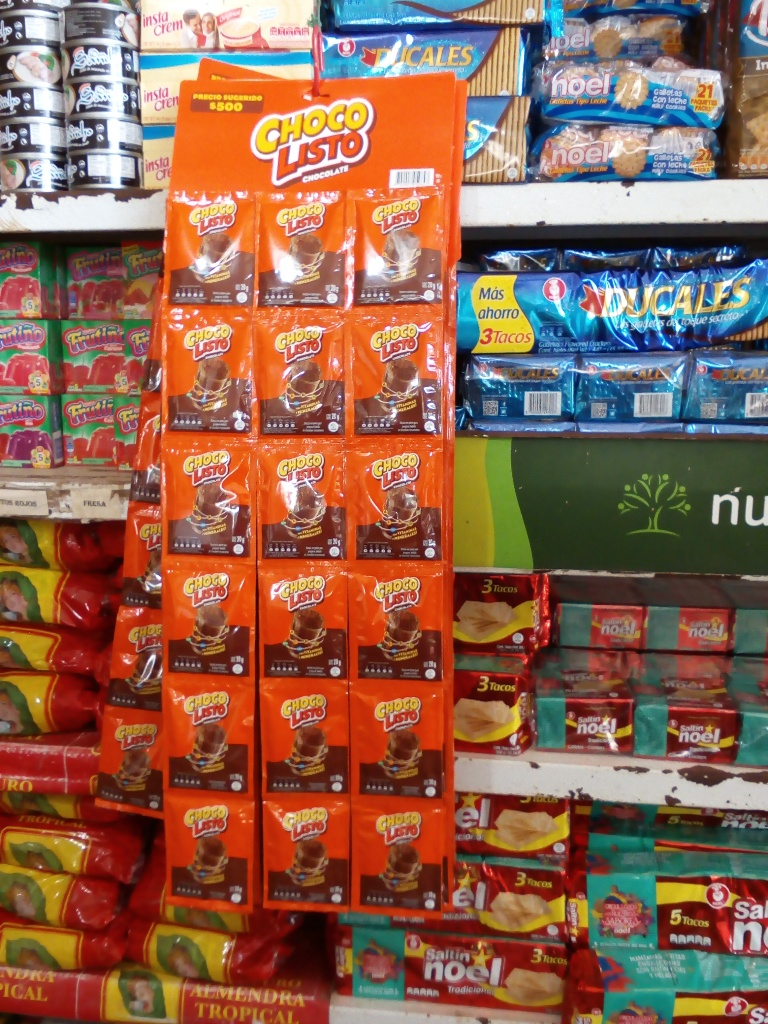COL0170103SOB02000: (159, 188, 253, 308)
